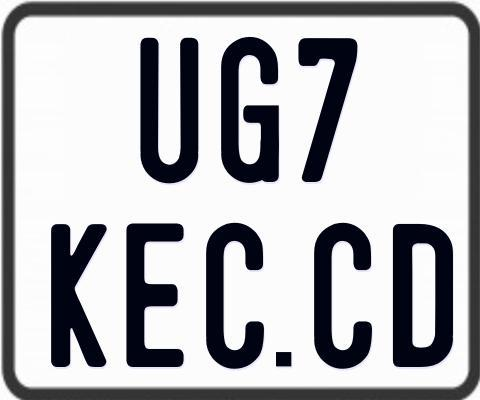7: (295, 37, 354, 183)
C: (314, 221, 377, 373), (206, 223, 269, 369)
D: (391, 222, 454, 365)
E: (123, 220, 181, 367)
G: (219, 37, 281, 187)
K: (51, 223, 113, 368)
U: (138, 35, 201, 184)
